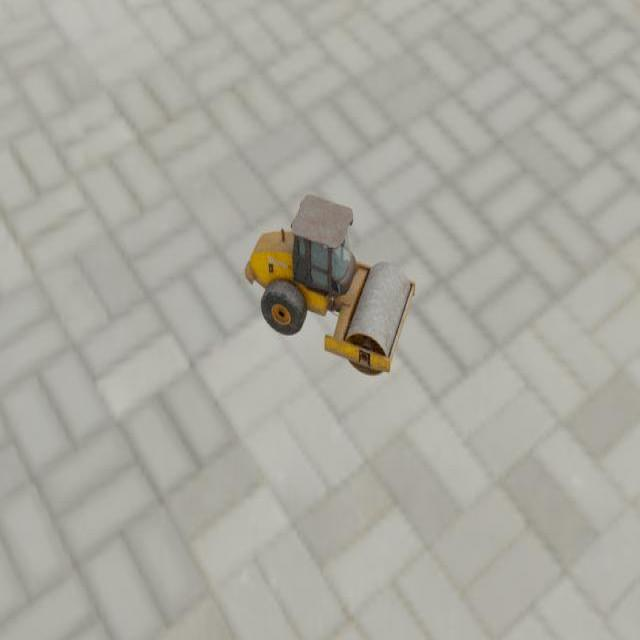Roller: (244, 193, 416, 376)
